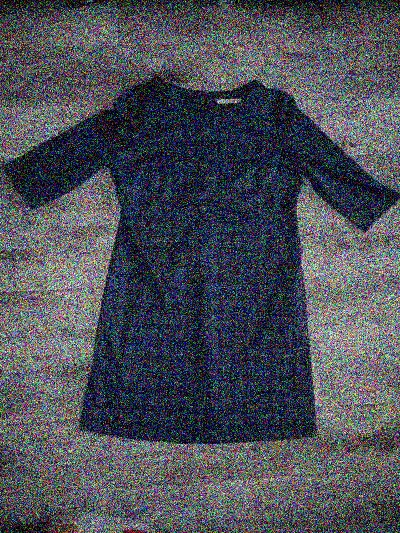Dress: (6, 69, 400, 455)
